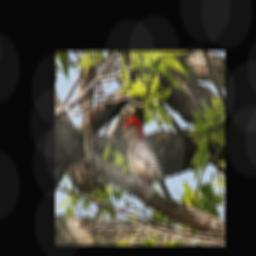Woodpecker: (112, 113, 177, 204)
